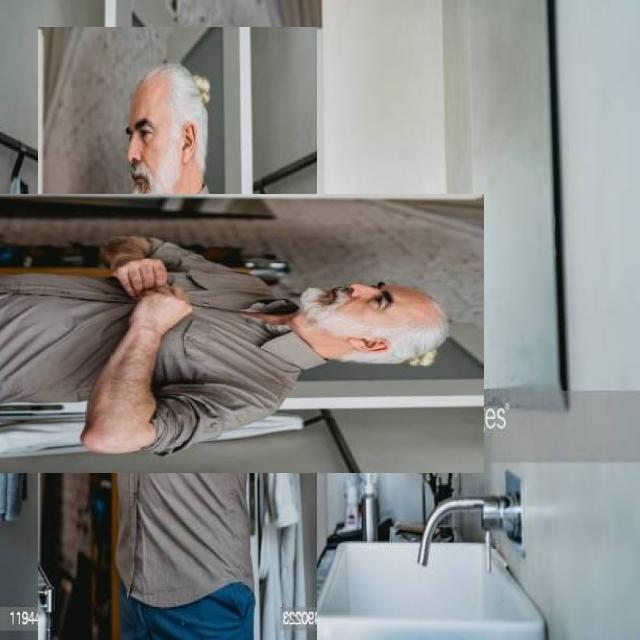NotFall: (0, 178, 445, 477)
